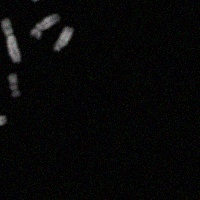chromosome: (1, 18, 21, 62), (30, 13, 59, 38), (54, 26, 74, 51), (8, 73, 21, 98), (0, 116, 7, 126), (4, 0, 39, 1)
